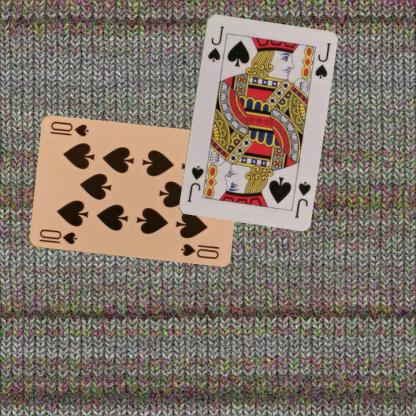10s: (36, 227, 78, 246)
Js: (204, 23, 226, 63), (292, 179, 312, 219)
